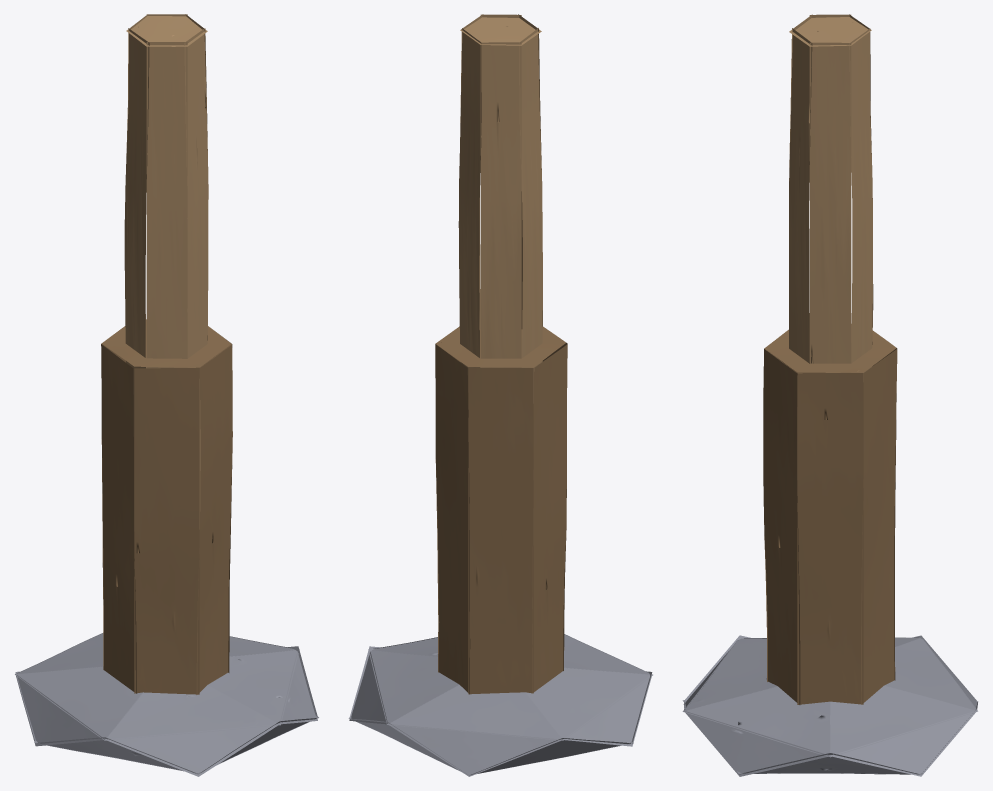
File: roost.glb
The picture shows the model from 3 angles, left to right: view 1: azimuth 30°, elevation 25°; view 2: azimuth 150°, elevation 25°; view 3: azimuth 270°, elevation 25°; orthographic projection.
Parts seen in each view (by area): view 1: RoostPost; view 2: RoostPost; view 3: RoostPost.
Part boxes in pixels (x1,y1,x2,y2): RoostPost: (15, 14, 318, 776); RoostPost: (348, 14, 652, 776); RoostPost: (682, 14, 978, 776).
Size of the model in its own units: 0.7495 by 1.89 by 0.7136.
